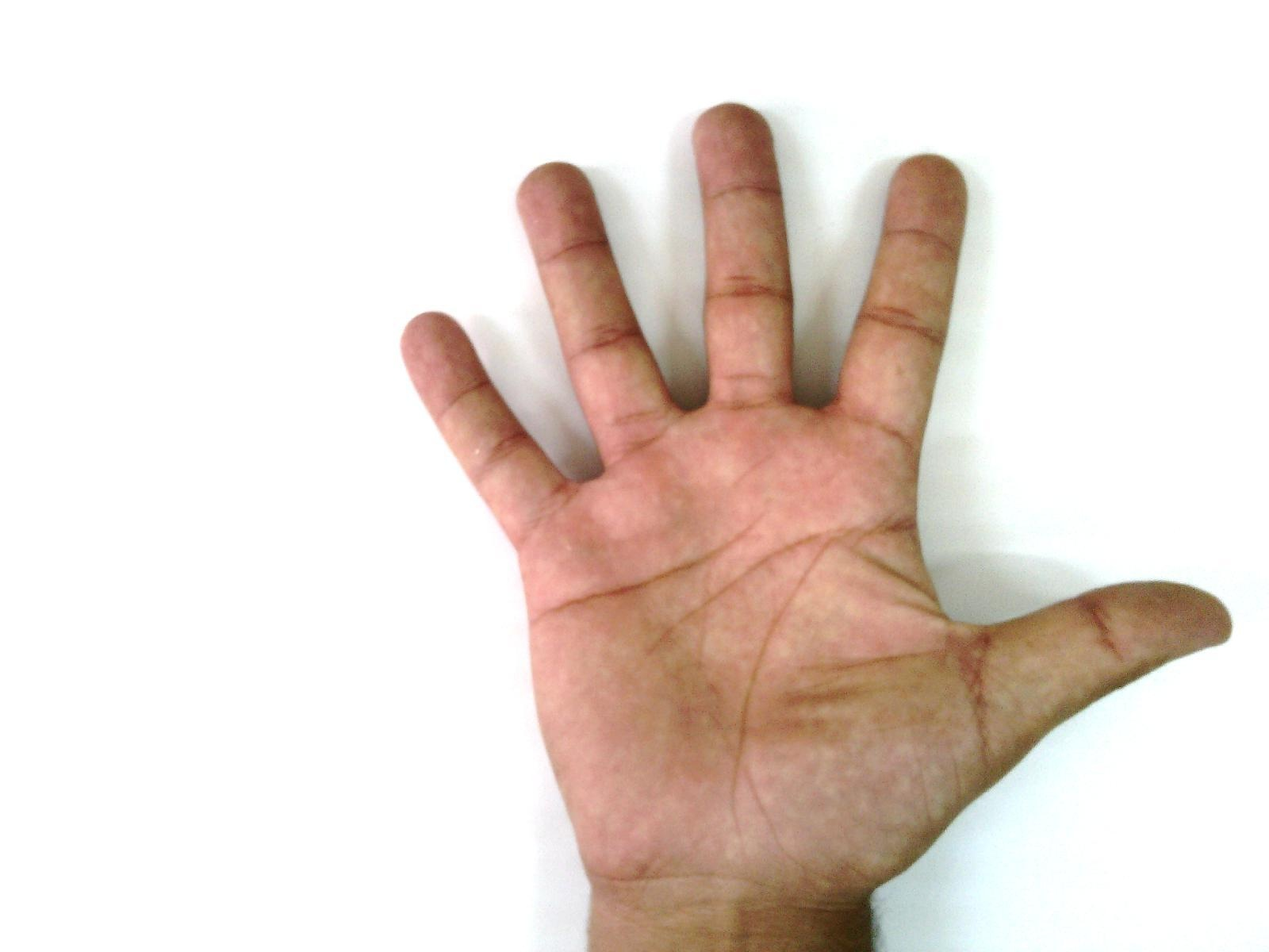open_palm: (403, 101, 1234, 894)
